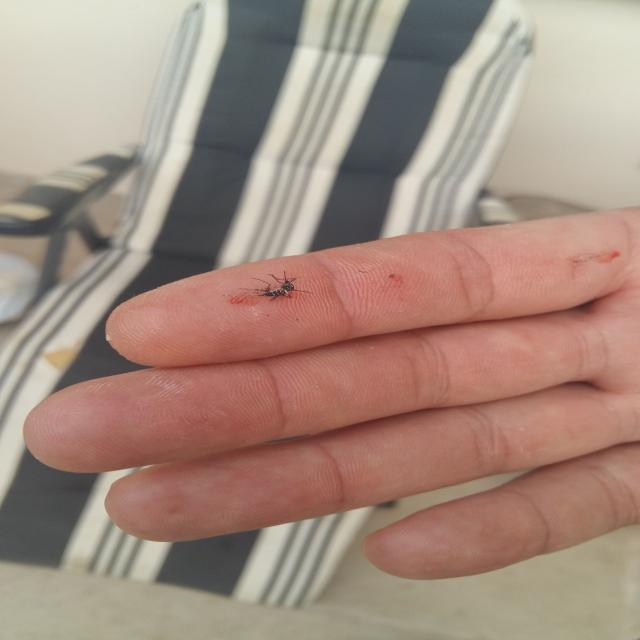albopictus: (231, 269, 313, 307)
